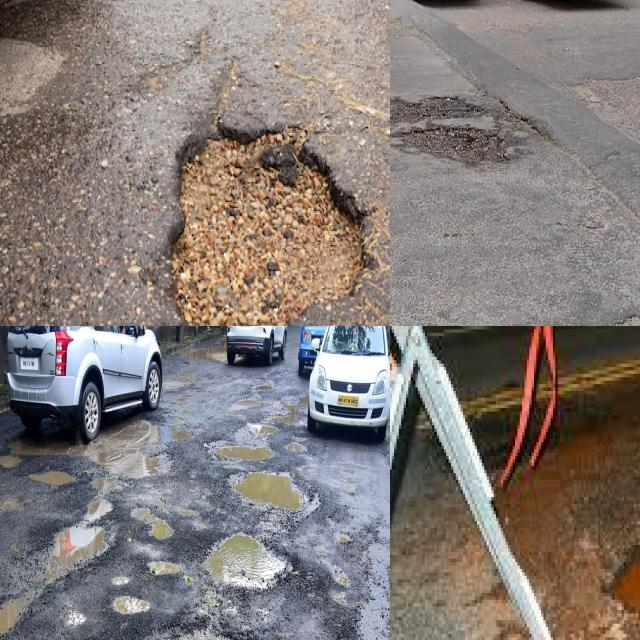Pothole: (170, 127, 371, 326), (0, 525, 107, 636), (0, 421, 158, 478), (397, 130, 508, 165), (207, 535, 283, 585), (390, 95, 477, 121)
Unmarked Bump: (390, 0, 640, 217)
